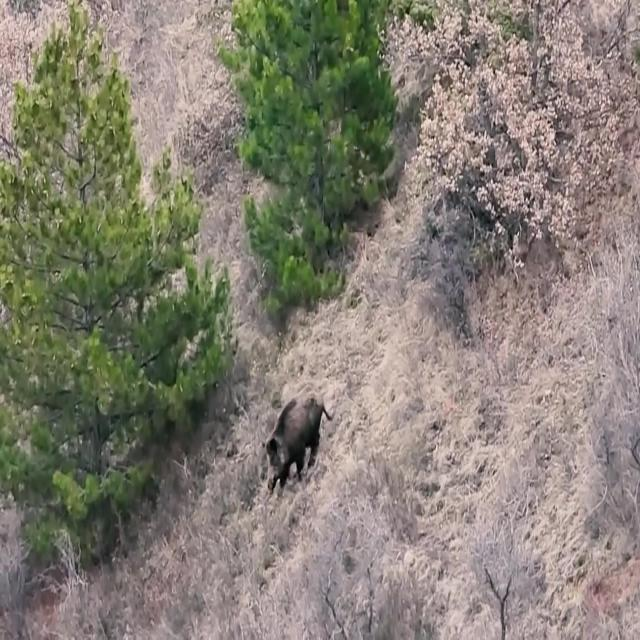pig: (259, 382, 316, 504)
